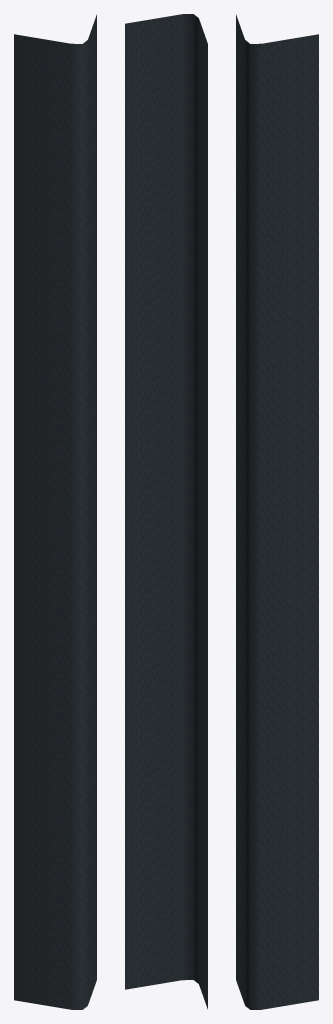
The model's file is Background1.fbx.
The picture shows the model from 3 angles, left to right: view 1: azimuth 30°, elevation 25°; view 2: azimuth 150°, elevation 25°; view 3: azimuth 330°, elevation 25°; orthographic projection.
Parts seen in each view (by area): view 1: Plane; view 2: Plane; view 3: Plane.
Part boxes in pixels (x1,y1,x2,y2): Plane: (14,14,96,1009); Plane: (125,14,207,1009); Plane: (236,14,318,1009).
Size of the model in its own units: 37522 by 417559 by 21229.
